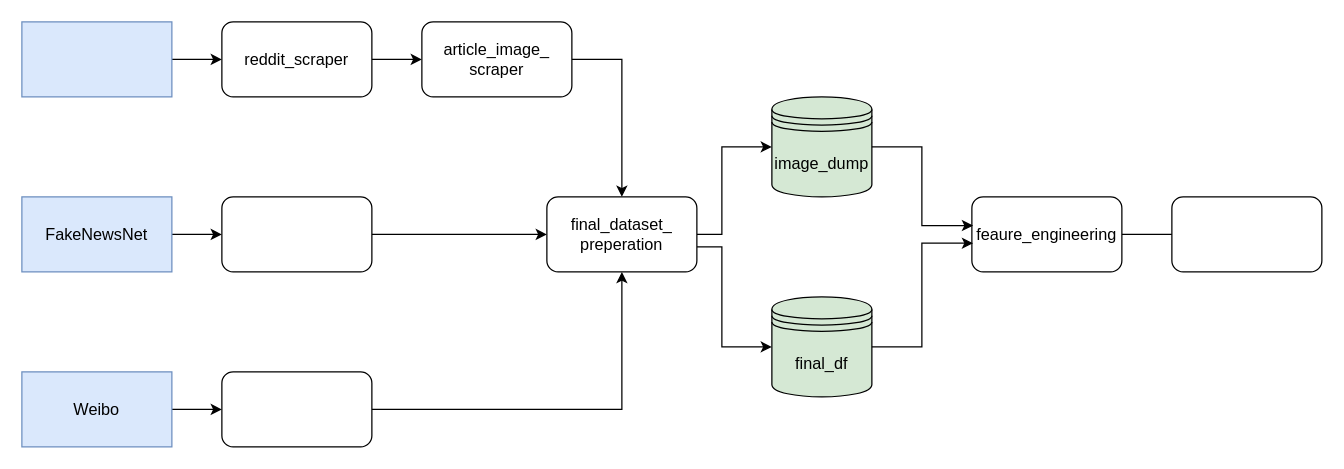
Some shapes in this 1344 by 469 pixel diagram are drawn without their labels. Each missing label, with the centre of its shape:
Fakeddit: pixel 96 59
fakenewsnet_ preprocessing: pixel 296 234
model_train_eval: pixel 1246 234
weibo_ preprocessing: pixel 296 409
